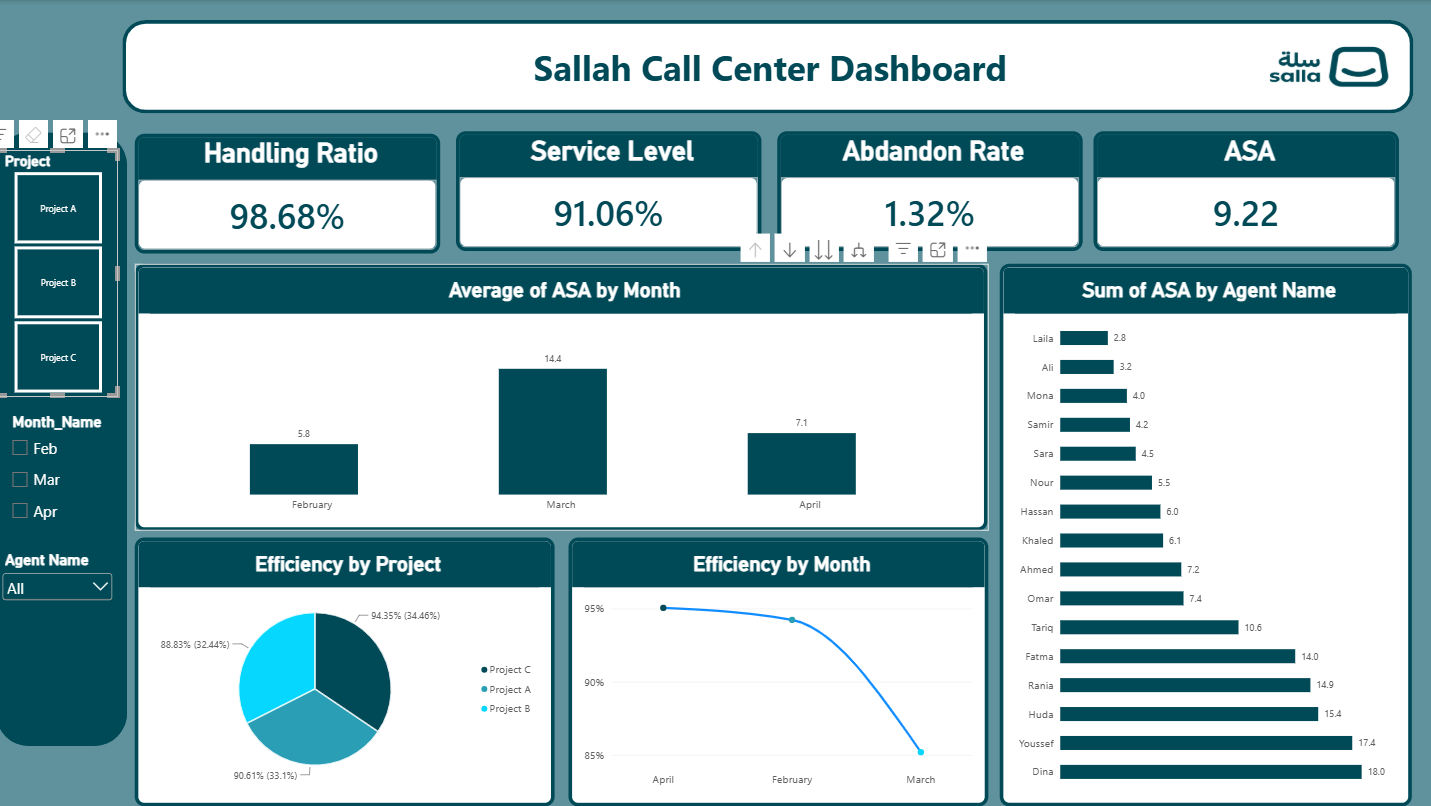

Layout of this report page (visuals, bound fields, positions):
{"tool":"powerbi","page":{"name":"Overview","canvas":[1920,1080],"ordinal":1},"visuals":[{"type":"shape","box":[167.9,26.8,1725,125],"z":0},{"type":"shape","box":[0,176.8,175,819.6],"z":1000},{"type":"image","box":[1670,0,222,178],"z":2000},{"type":"actionButton","box":[175,44.6,1717.9,89.3],"z":3000},{"type":"cardVisual","title":"Handling Ratio","fields":{"Data":["sallah dataset.Handling Calls Ratio"]},"box":[186,178,408,160],"z":4000},{"type":"cardVisual","title":"Service Level","fields":{"Data":["sallah dataset.Service Level"]},"box":[614,176,408,160],"z":5000},{"type":"cardVisual","title":"Abdandon Rate","fields":{"Data":["sallah dataset.Abdandon Rate"]},"box":[1044,176,408,160],"z":6000},{"type":"cardVisual","title":"ASA","fields":{"Data":["Avg(sallah dataset.ASA)"]},"box":[1466,176,408,160],"z":7000},{"type":"columnChart","title":"Average of ASA by Month","fields":{"Category":["sallah dataset.Date.Variation.Date Hierarchy.Month","sallah dataset.Day Name"],"Y":["Avg(sallah dataset.ASA)"]},"box":[185.7,351.8,1139.3,357.1],"z":8000},{"type":"pieChart","fields":{"Category":["sallah dataset.Project"],"Y":["sallah dataset.Efficiency"]},"box":[185.7,717.9,560.7,358.9],"z":9000},{"type":"lineChart","fields":{"Category":["sallah dataset.Date.Variation.Date Hierarchy.Month"],"Y":["sallah dataset.Efficiency"]},"box":[764.3,717.9,560.7,358.9],"z":10000},{"type":"clusteredBarChart","title":"Sum of ASA by Agent Name","fields":{"Category":["sallah dataset.Agent Name"],"Y":["Avg(sallah dataset.ASA)"]},"box":[1341.1,351.8,550,725],"z":11000},{"type":"slicer","fields":{"Values":["sallah dataset.Month_Name"]},"box":[10.7,548.2,164.3,166.1],"z":12000},{"type":"slicer","fields":{"Values":["sallah dataset.Project"]},"box":[0,200,164.3,330.4],"z":13000},{"type":"slicer","fields":{"Values":["sallah dataset.Agent Name"]},"box":[0,732.1,164.3,166.1],"z":14000}]}

Visuals, with their boxes on the page's 1920x1080 design canvas (x1, y1, x2, y2). These are canvas units, not pixel positions in the 1431x806 screenshot, which may show the page scaled, cropped or inside an application window:
shape: detection(168, 27, 1893, 152)
shape: detection(0, 177, 175, 996)
image: detection(1670, 0, 1892, 178)
actionButton: detection(175, 45, 1893, 134)
"Handling Ratio" cardVisual: detection(186, 178, 594, 338)
"Service Level" cardVisual: detection(614, 176, 1022, 336)
"Abdandon Rate" cardVisual: detection(1044, 176, 1452, 336)
"ASA" cardVisual: detection(1466, 176, 1874, 336)
"Average of ASA by Month" columnChart: detection(186, 352, 1325, 709)
pieChart - sallah dataset.Project x sallah dataset.Efficiency: detection(186, 718, 746, 1077)
lineChart - sallah dataset.Date.Variation.Date Hierarchy.Month x sallah dataset.Efficiency: detection(764, 718, 1325, 1077)
"Sum of ASA by Agent Name" clusteredBarChart: detection(1341, 352, 1891, 1077)
slicer - sallah dataset.Month_Name: detection(11, 548, 175, 714)
slicer - sallah dataset.Project: detection(0, 200, 164, 530)
slicer - sallah dataset.Agent Name: detection(0, 732, 164, 898)
